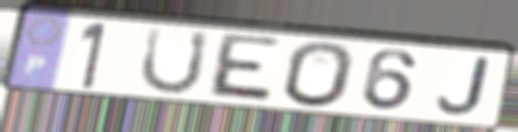1: (77, 21, 108, 91)
6: (362, 47, 418, 113)
E: (203, 31, 284, 106)
J: (433, 56, 492, 118)
O: (281, 39, 357, 110)
U: (136, 24, 213, 97)
